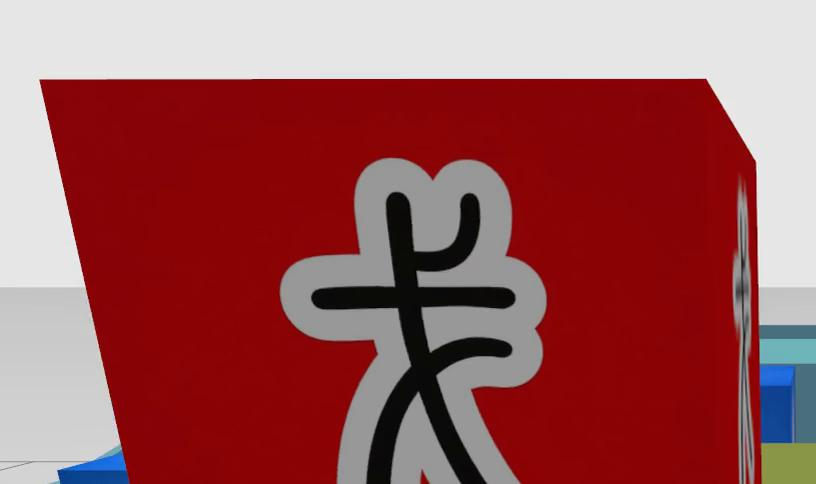KFS_FAKE: (42, 79, 767, 484), (280, 158, 545, 484)
